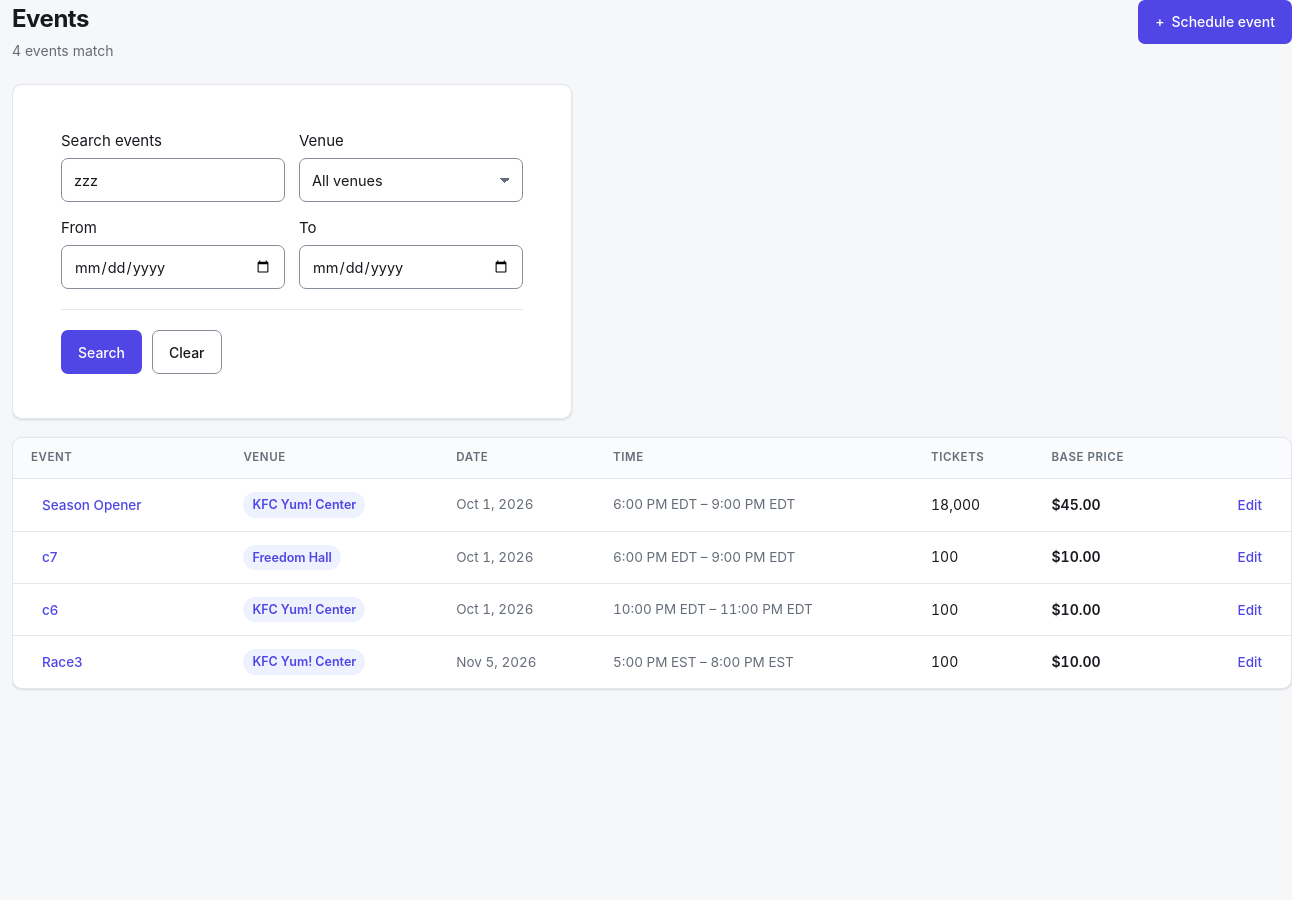
Scenario: Event search › clears every filter
Expected: the search field labelled "Search events" is shown, [61, 158, 285, 202]
Click the button "Clear": (187, 352) [152, 330, 222, 374]
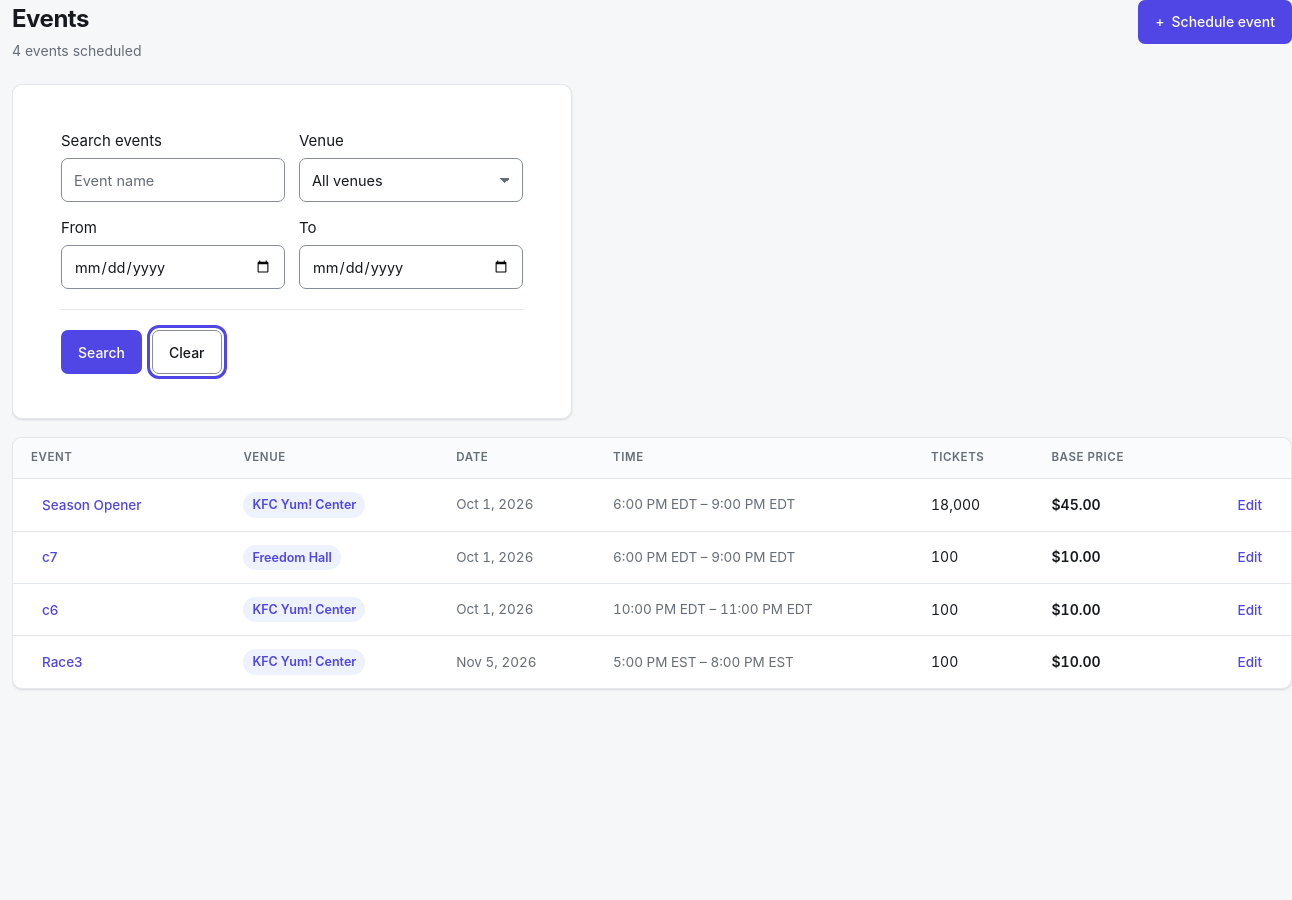
Now the search field labelled "Search events" is empty, box [61, 158, 285, 202]
